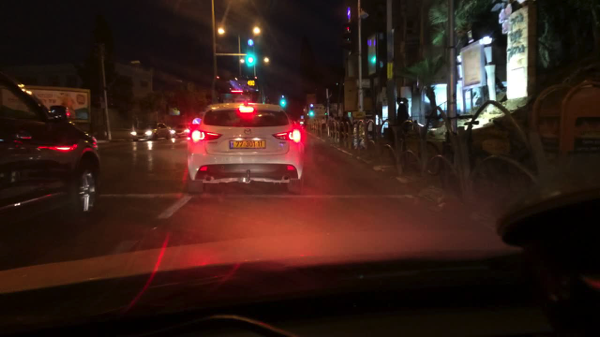car: (0, 70, 103, 227), (184, 100, 307, 190), (129, 120, 176, 141), (172, 124, 191, 139)
traffic light: (245, 53, 258, 66), (278, 98, 290, 108)
traffic sign: (355, 78, 371, 88)
